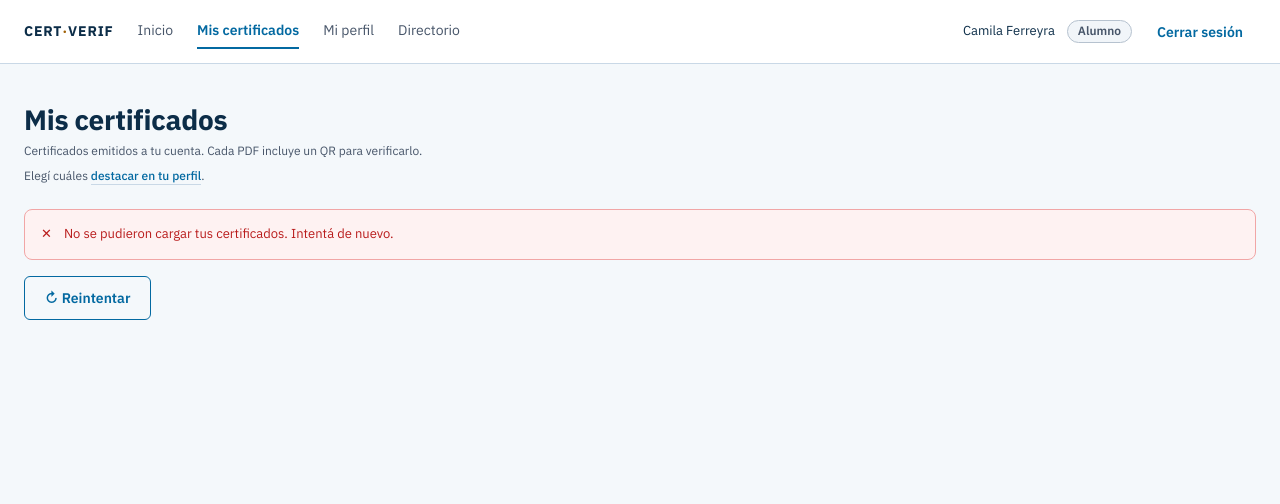
Test: lista › error: Reintentar vuelve a pedir y muestra la lista
This screenshot has width=1280, height=504.
Expected: the message shows "No se pudieron cargar tus certificados. Intentá de nuevo.", [64, 225, 394, 242]
Step 1. Click the button "↻ Reintentar" → (88,298), box [24, 276, 151, 320]
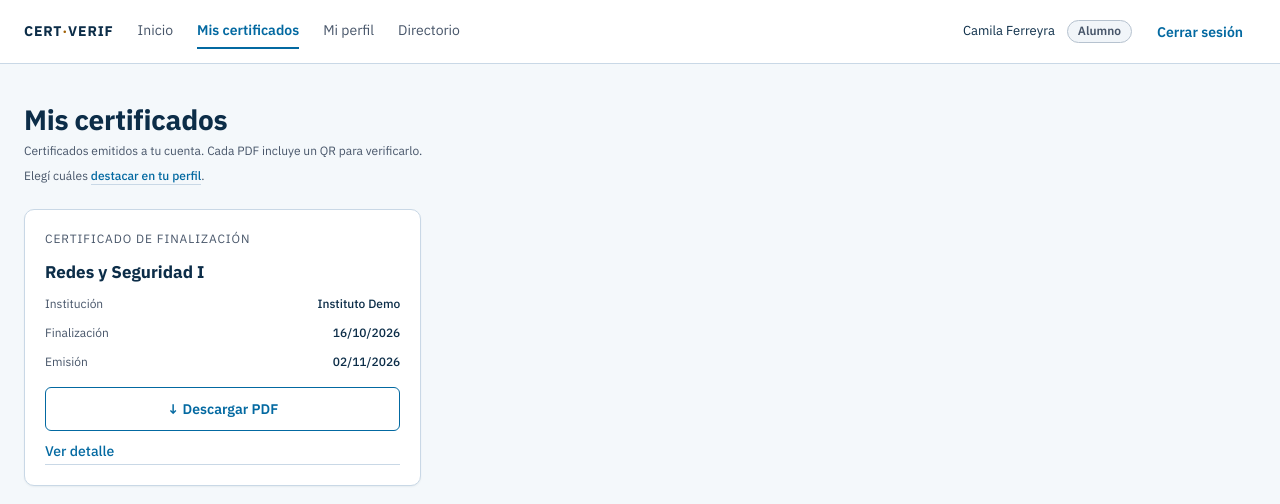
Now the heading "Redes y Seguridad I" is shown, box [45, 261, 204, 283]
